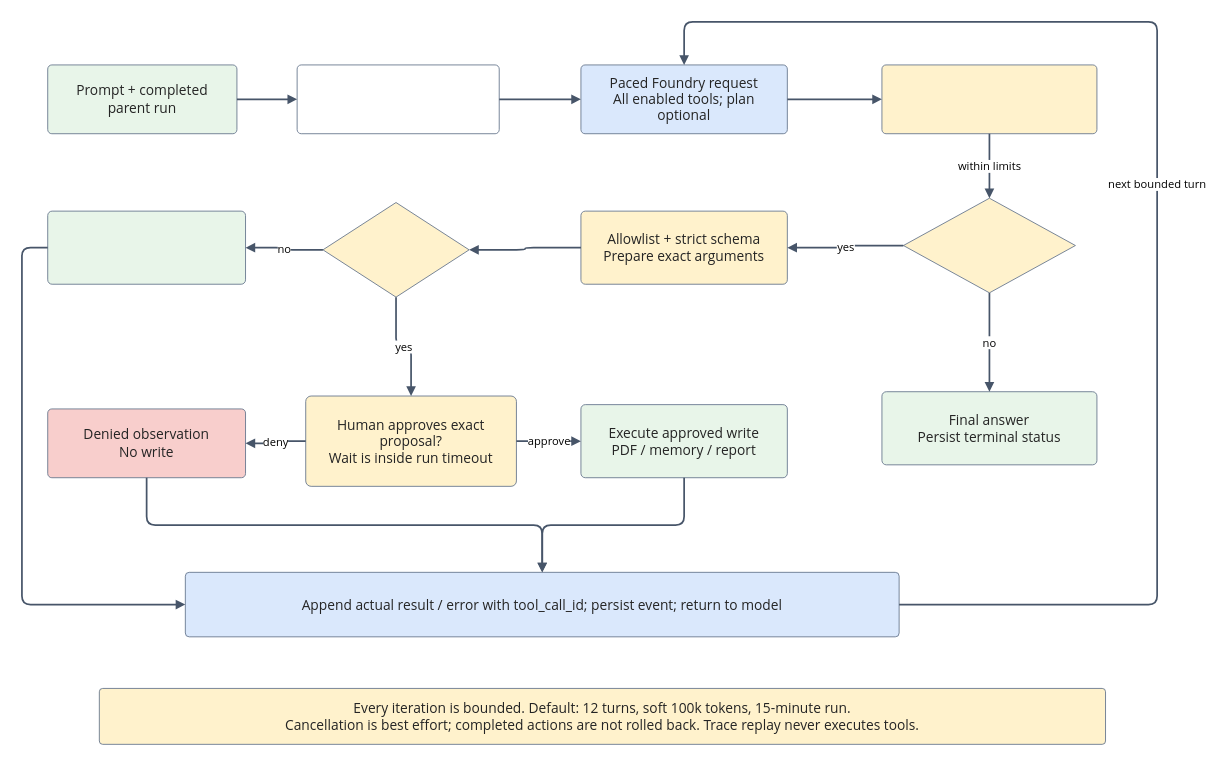
Some shapes in this 1220 by 759 pixel diagram are drawn without their labels. Here are the shapes that lost their labels. From the top down, the centre of each, then its label:
the point at 397,99: Restore paired history Current system instructions
the point at 989,99: Usage / stop checks
the point at 146,247: Read tool WebIQ / optional planning
the point at 395,249: Write?
the point at 989,245: Tool calls?
